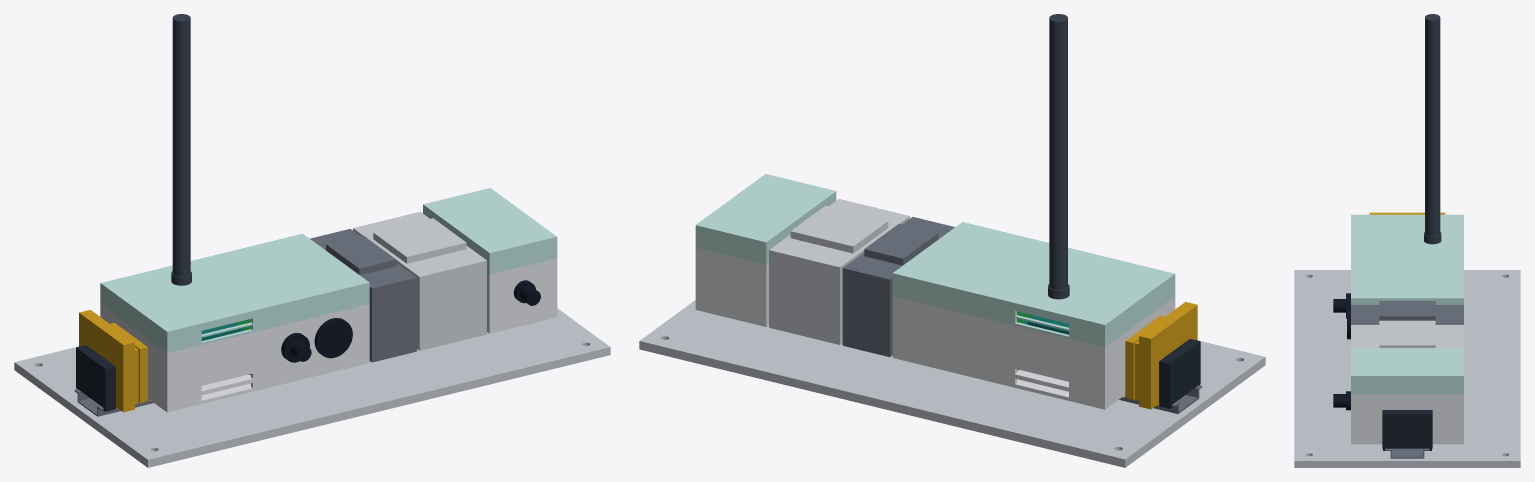
3 views of the same model, side by side, from view 1: azimuth 30°, elevation 25°; view 2: azimuth 150°, elevation 25°; view 3: azimuth 270°, elevation 25° (orthographic). The views are drawn at different scales.
Parts seen in each view (by area): view 1: Bench mounting plate, Gateway enclosure cover, Gateway enclosure base, DIN UPS module, Battery box cover, DC-DC converter, 12 V to 5 V, LoRa antenna and SMA bulkhead, Battery box base, Terminal blocks and fuse, DIN rail end stops, Cable entries; view 2: Bench mounting plate, Gateway enclosure cover, Gateway enclosure base, DIN UPS module, Battery box cover, DC-DC converter, 12 V to 5 V, LoRa antenna and SMA bulkhead, Battery box base, Terminal blocks and fuse, DIN rail end stops; view 3: Bench mounting plate, Gateway enclosure cover, Battery box cover, Battery box base, LoRa antenna and SMA bulkhead, DIN UPS module, DC-DC converter, 12 V to 5 V, DIN rail end stops, DIN rail, TS35, Cable entries, Battery box gland.
Boxes of the visible parts, <box> form: Bench mounting plate: <box>14,308,610,467</box>; Gateway enclosure cover: <box>100,233,369,353</box>; Gateway enclosure base: <box>100,304,369,412</box>; DIN UPS module: <box>353,211,486,350</box>; Battery box cover: <box>423,188,557,274</box>; DC-DC converter, 12 V to 5 V: <box>310,229,416,362</box>; LoRa antenna and SMA bulkhead: <box>171,14,191,285</box>; Battery box base: <box>487,258,557,333</box>; Terminal blocks and fuse: <box>79,310,147,412</box>; DIN rail end stops: <box>76,345,115,411</box>; Cable entries: <box>281,318,352,362</box>; Bench mounting plate: <box>639,300,1265,467</box>; Gateway enclosure cover: <box>892,222,1175,347</box>; Gateway enclosure base: <box>892,296,1175,409</box>; DIN UPS module: <box>769,199,909,344</box>; Battery box cover: <box>695,174,836,264</box>; DC-DC converter, 12 V to 5 V: <box>842,217,954,357</box>; LoRa antenna and SMA bulkhead: <box>1048,14,1069,299</box>; Battery box base: <box>695,248,768,326</box>; Terminal blocks and fuse: <box>1125,302,1197,409</box>; DIN rail end stops: <box>1159,339,1200,408</box>; Bench mounting plate: <box>1294,270,1520,467</box>; Gateway enclosure cover: <box>1351,214,1463,304</box>; Battery box cover: <box>1351,348,1463,394</box>; Battery box base: <box>1351,394,1463,444</box>; LoRa antenna and SMA bulkhead: <box>1424,14,1441,244</box>; DIN UPS module: <box>1351,320,1463,347</box>; DC-DC converter, 12 V to 5 V: <box>1351,301,1463,324</box>; DIN rail end stops: <box>1382,410,1432,450</box>; DIN rail, TS35: <box>1385,448,1429,458</box>; Cable entries: <box>1333,293,1350,339</box>; Battery box gland: <box>1333,391,1350,410</box>.
Bounding box in the file's own units: 0.36 × 0.2755 × 0.18.
